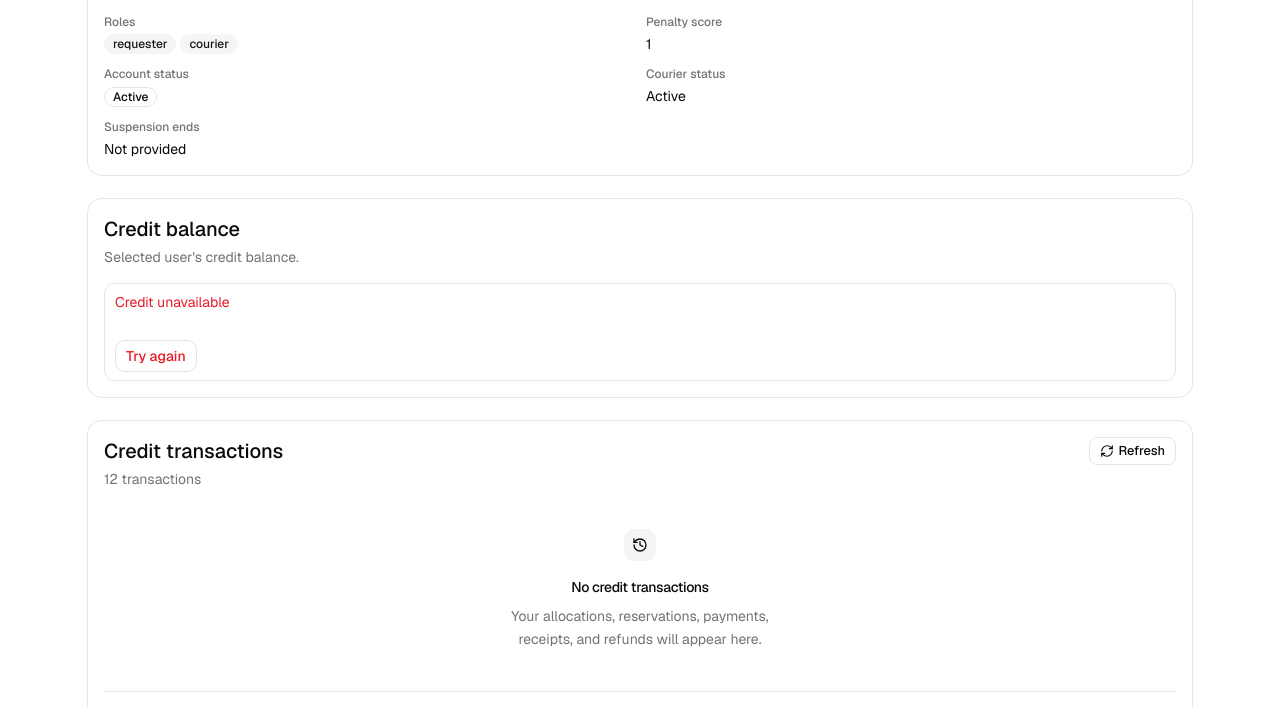
Test: Admin pages › keeps profile and history visible when balance fails and retries only the balance
(page scrolled)
Expected: the text "Credit unavailable" is shown, left=115, top=293, right=230, bottom=311
Expected: the text "No credit transactions" is shown, left=571, top=577, right=709, bottom=597
Click the button "Try again": (156,356) left=115, top=340, right=197, bottom=372
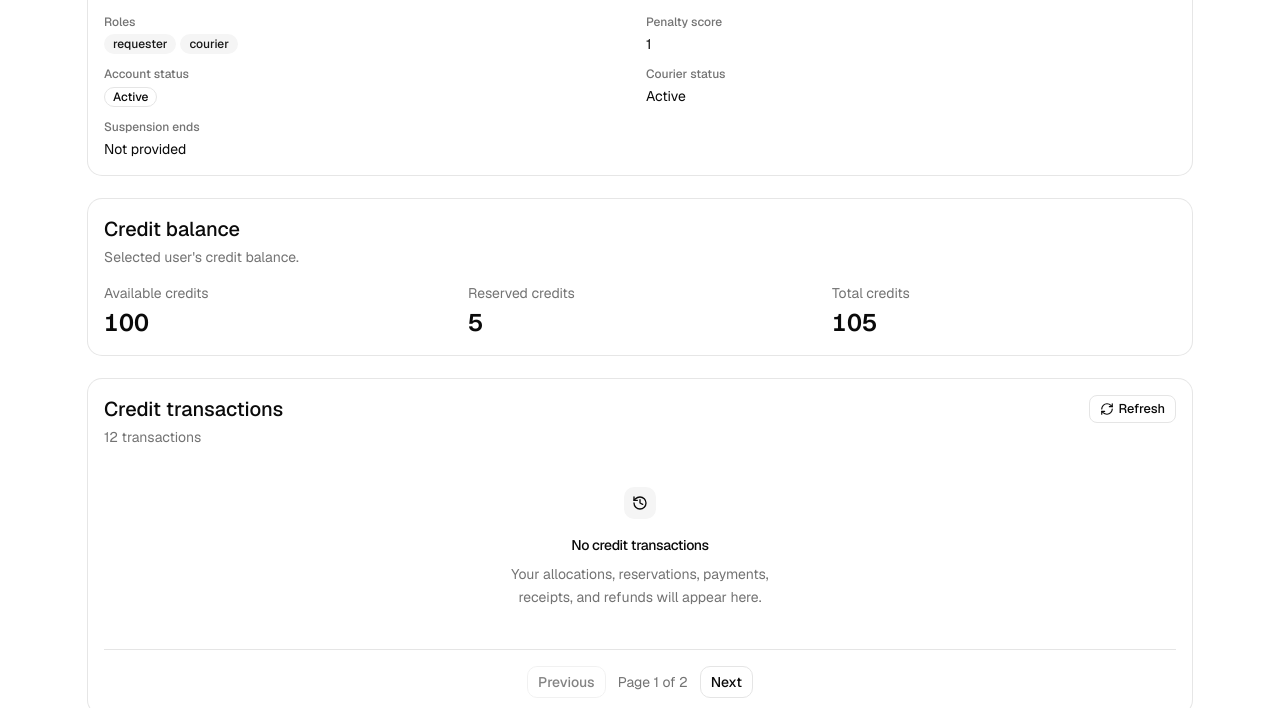
Expected: the text "100" is shown, left=104, top=307, right=149, bottom=338
